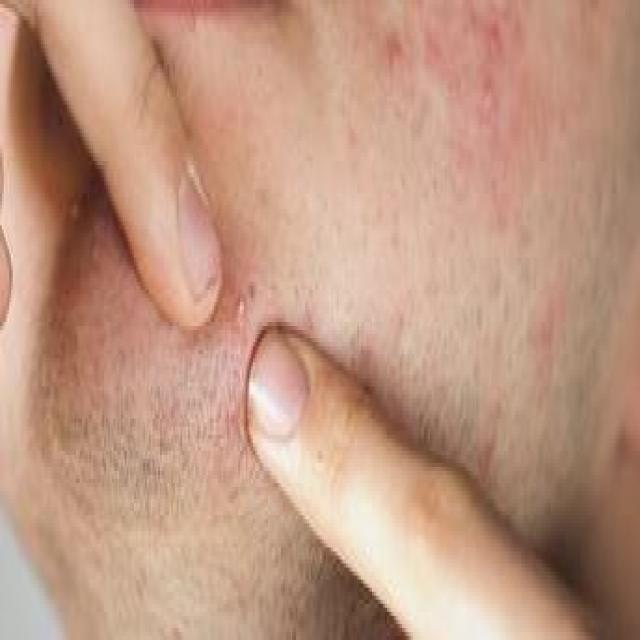blackheads: (610, 402, 633, 475), (385, 24, 402, 77), (476, 72, 495, 117), (235, 290, 248, 326)
